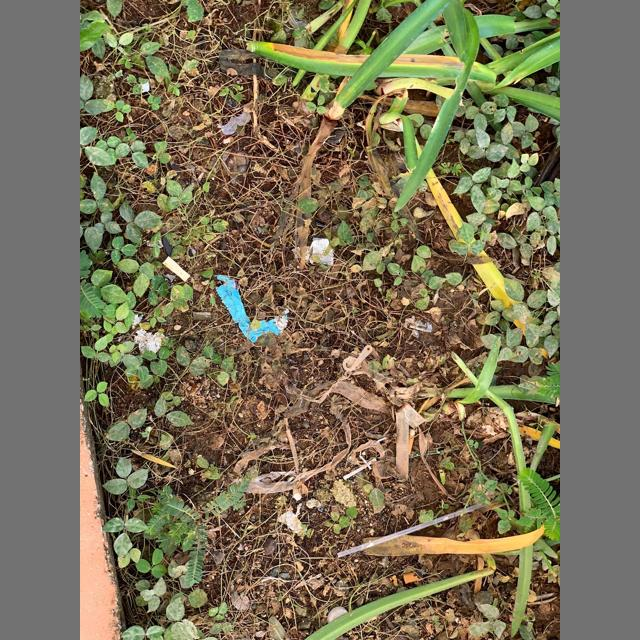litter: (337, 502, 486, 558), (216, 275, 288, 343), (396, 404, 426, 478), (217, 110, 252, 135), (304, 238, 334, 266), (134, 328, 169, 352), (343, 345, 373, 371), (162, 255, 191, 281), (343, 458, 376, 480), (405, 316, 432, 332), (328, 607, 348, 623), (404, 571, 421, 583), (410, 429, 417, 455), (142, 81, 148, 92)
